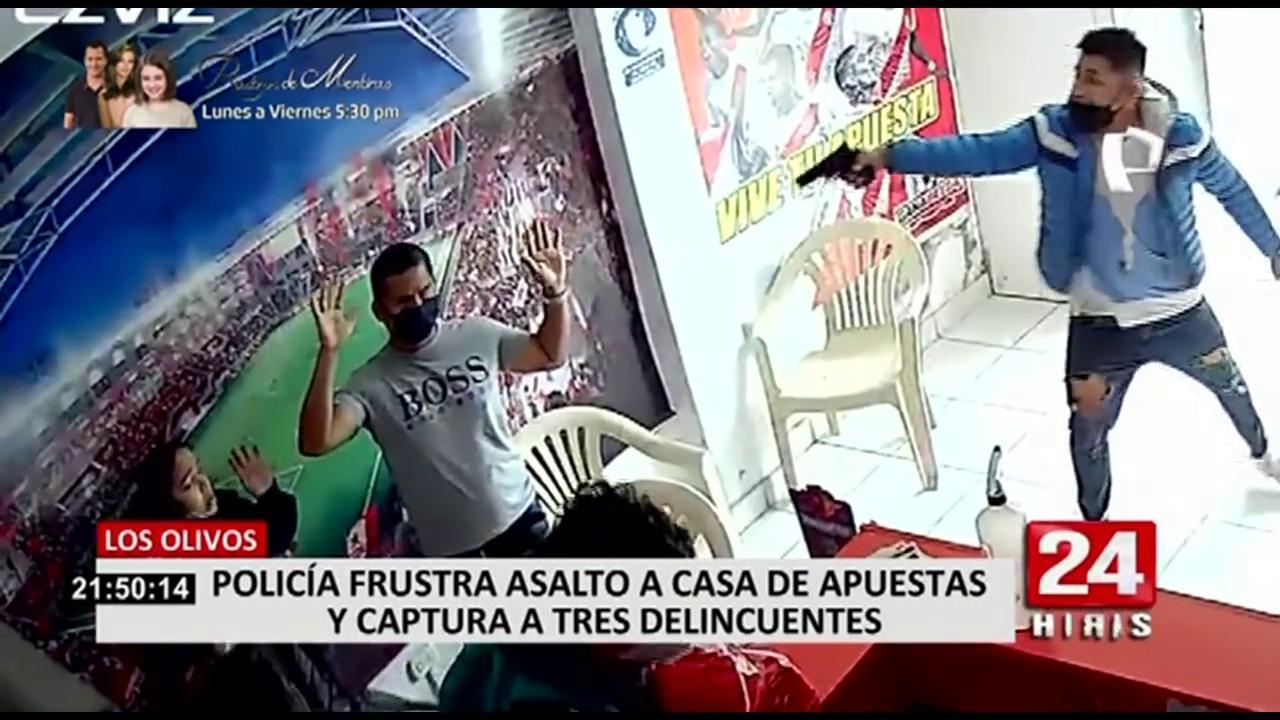Guns: (778, 125, 886, 206)
